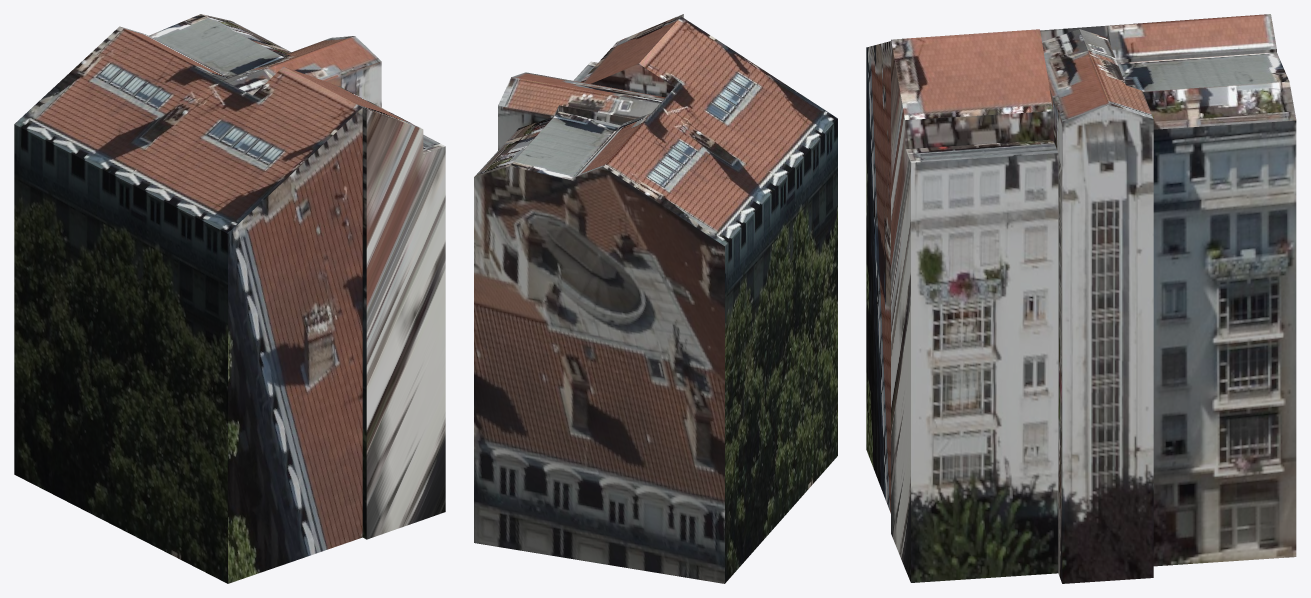
3 views of the same model, side by side, from view 1: azimuth 30°, elevation 25°; view 2: azimuth 150°, elevation 25°; view 3: azimuth 270°, elevation 25° (orthographic). The views are drawn at different scales.
Visible parts, largest first — view 1: Z_UP; view 2: Z_UP; view 3: Z_UP.
Boxes of the visible parts, left/top/right/bottom form: Z_UP: left=14, top=14, right=445, bottom=583; Z_UP: left=474, top=14, right=837, bottom=583; Z_UP: left=866, top=14, right=1296, bottom=583.
Bounding box in the file's own units: 19.63 × 28.12 × 22.17.
2 materials, 1 textured.
